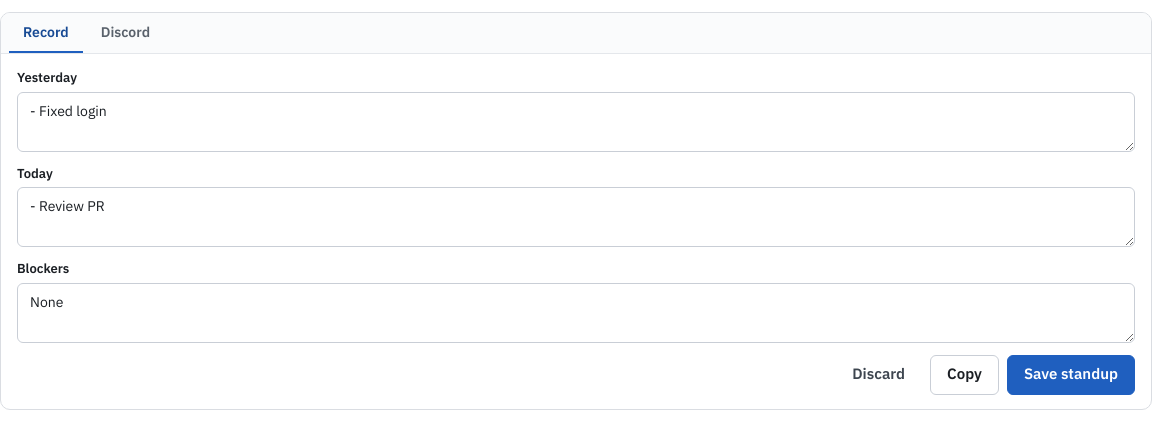
Test case: the Discord tab requests the Discord text and shows a counter
Click the tab "Discord": (125, 33) [87,13,164,53]
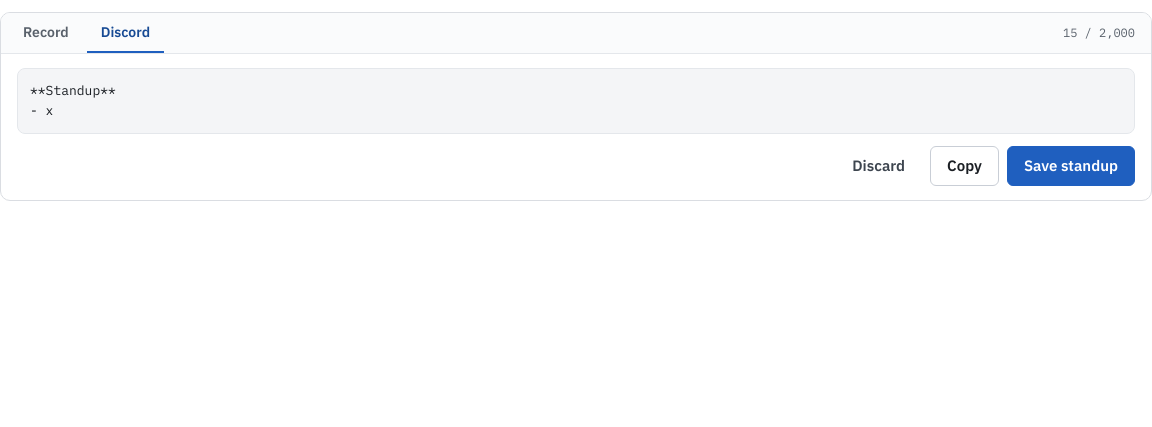
Check: the text "**Standup** - x" is shown, box [17,68,1135,134]
